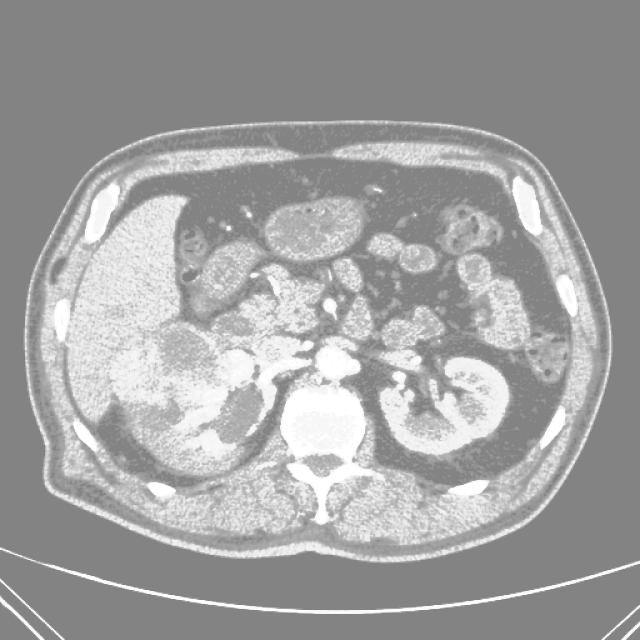TUMOR: (72, 297, 505, 488)
